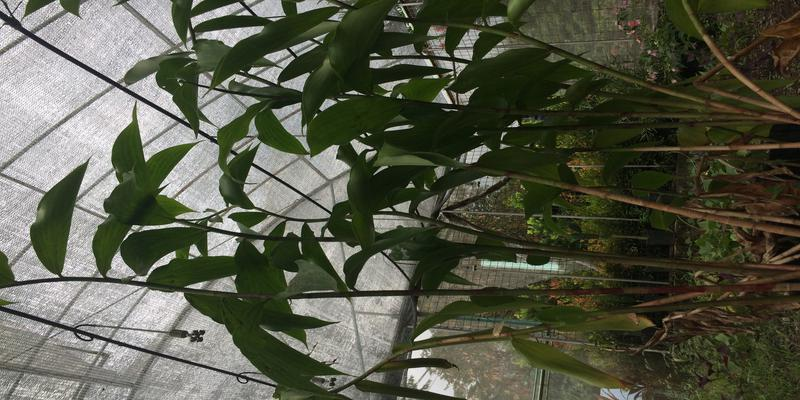Insulin: (202, 12, 778, 322)
